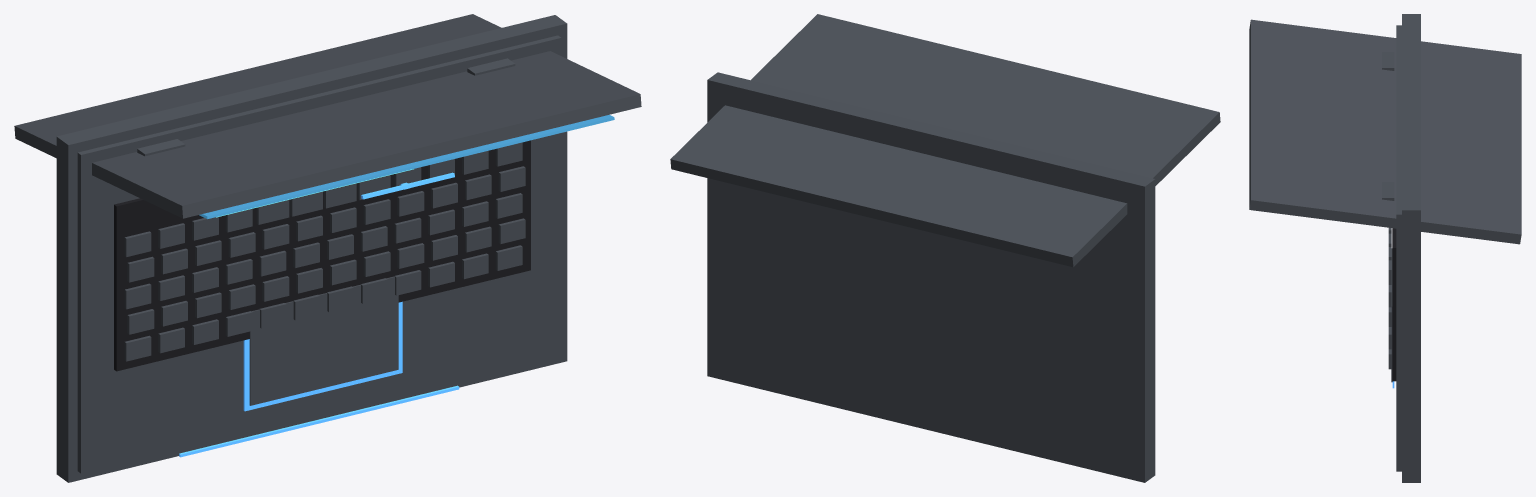
Rendered from laptop.glb.
The picture shows the model from 3 angles, left to right: view 1: azimuth 30°, elevation 25°; view 2: azimuth 150°, elevation 25°; view 3: azimuth 270°, elevation 25°; orthographic projection. The views are drawn at different scales.
Parts seen in each view (by area): view 1: laptop_part_001, laptop_part_065, laptop_part_004, laptop_part_000, laptop_part_003, laptop_part_066, laptop_part_002, laptop_part_071; view 2: laptop_part_000, laptop_part_065; view 3: laptop_part_065, laptop_part_000, laptop_part_001, laptop_part_004.
Part boxes in pixels (x1,y1,x2,y2): laptop_part_001: [77, 35, 561, 473]; laptop_part_065: [14, 14, 641, 218]; laptop_part_004: [114, 140, 530, 371]; laptop_part_000: [56, 15, 567, 482]; laptop_part_003: [249, 276, 398, 405]; laptop_part_066: [199, 114, 614, 219]; laptop_part_002: [243, 301, 402, 411]; laptop_part_071: [179, 385, 459, 457]; laptop_part_000: [707, 72, 1155, 482]; laptop_part_065: [670, 14, 1220, 267]; laptop_part_065: [1249, 19, 1521, 244]; laptop_part_000: [1402, 14, 1420, 482]; laptop_part_001: [1396, 25, 1401, 471]; laptop_part_004: [1392, 228, 1396, 381].
Bounding box in the file's own units: 6.8 × 4.44 × 3.98.
